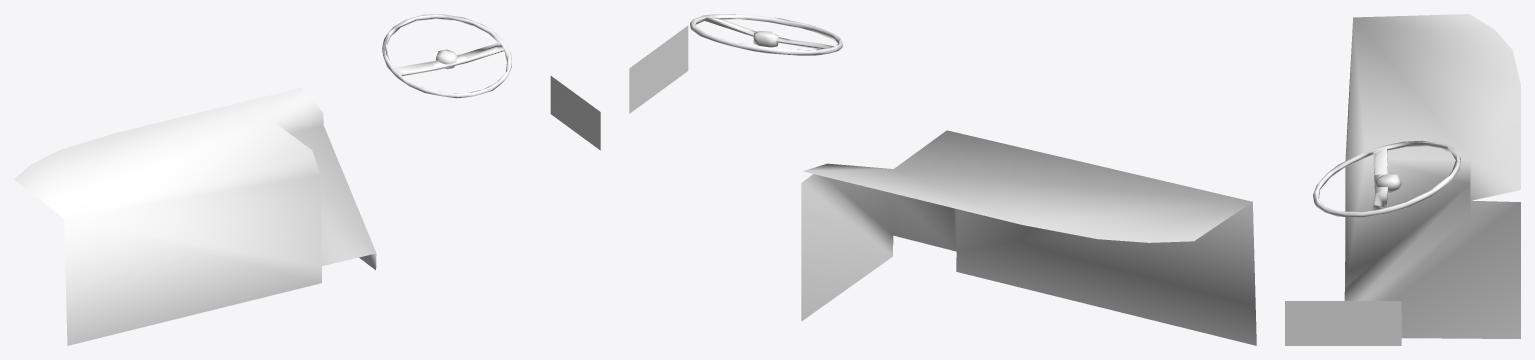
3 views of the same model, side by side, from view 1: azimuth 30°, elevation 25°; view 2: azimuth 150°, elevation 25°; view 3: azimuth 270°, elevation 25° (orthographic). The views are drawn at different scales.
Bounding box in the file's own units: 2.33 × 0.8624 × 0.8035.
Materials: 1 (1 with a texture image).
